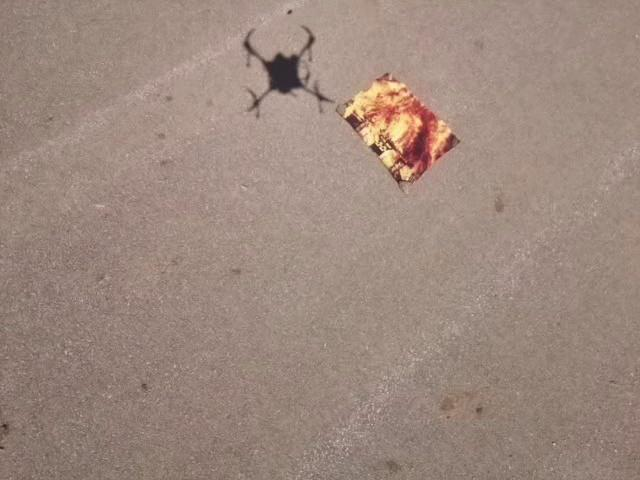fire-poster: (334, 69, 461, 193)
